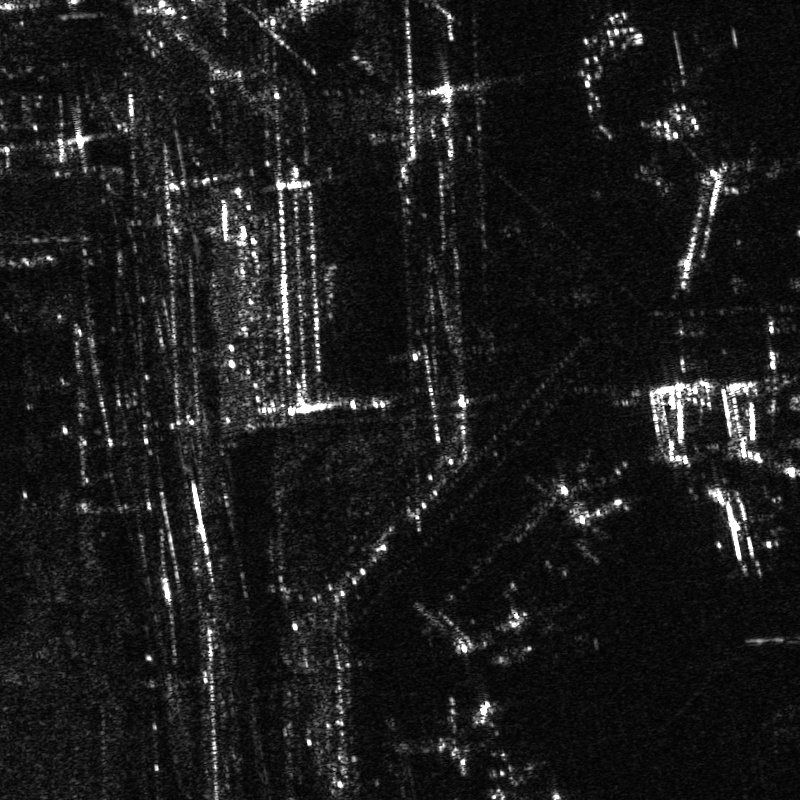Boeing737: (699, 470, 777, 576)
